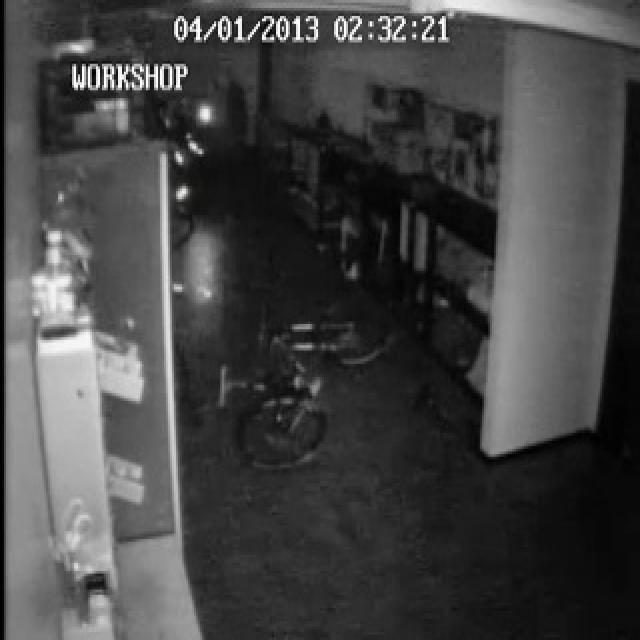thief: (216, 60, 251, 161)
